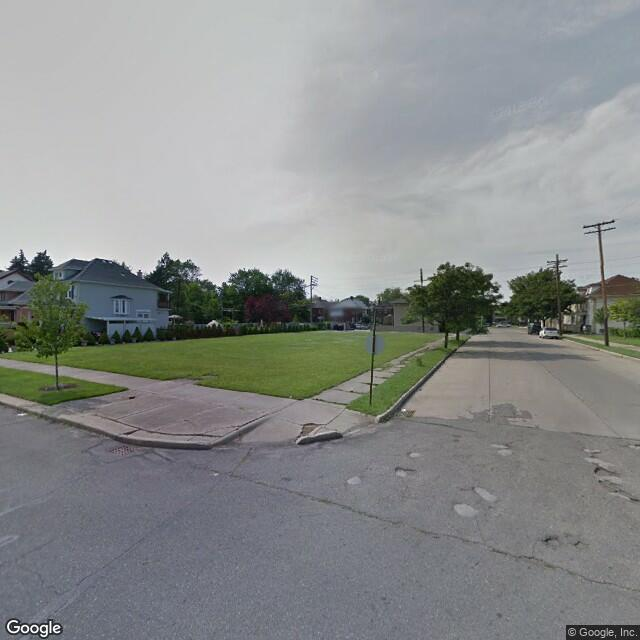litter: (19, 410, 28, 419), (399, 405, 407, 415)
